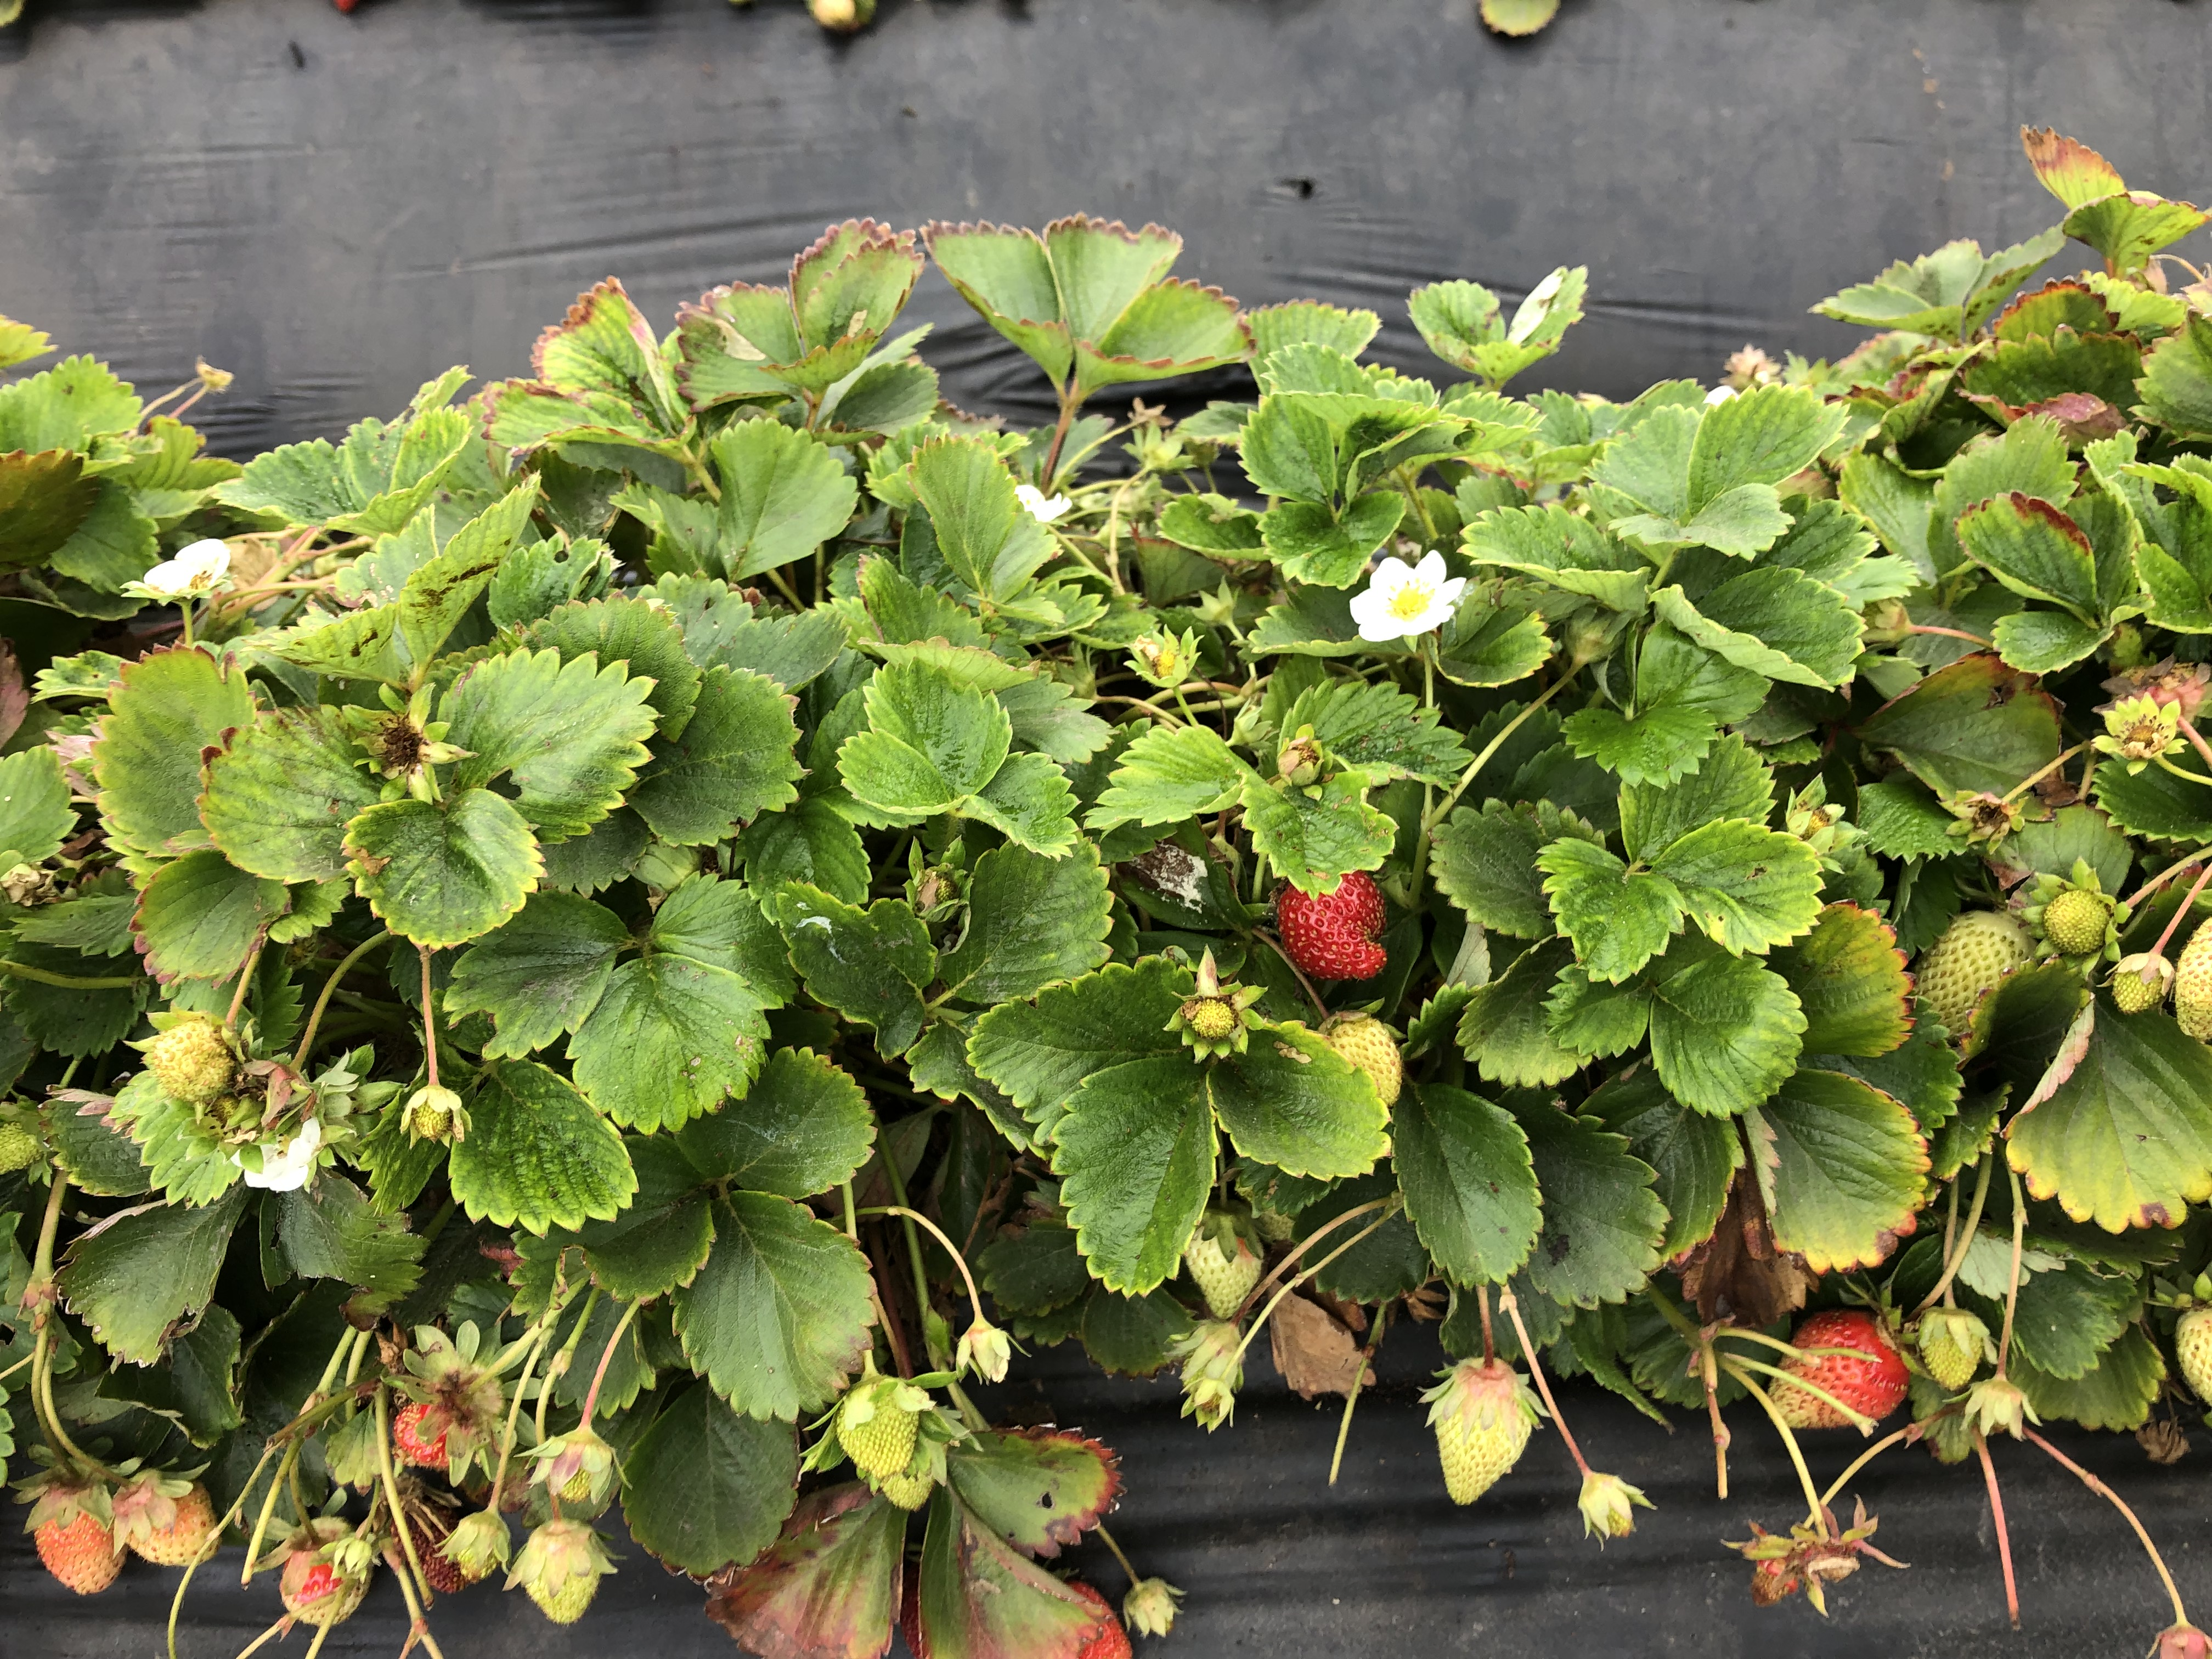ripe_strawberry: (1275, 866, 1392, 986), (385, 1492, 460, 1595), (397, 1389, 469, 1471)
unripe_strawberry: (1423, 1347, 1540, 1518), (1911, 897, 2036, 1044), (1768, 1309, 1909, 1431), (24, 1474, 117, 1596), (833, 1370, 928, 1485), (111, 1476, 223, 1570), (516, 1520, 611, 1628), (277, 1516, 364, 1629), (1183, 1211, 1266, 1317), (146, 1018, 233, 1112), (1320, 1011, 1407, 1105), (2034, 877, 2123, 960), (1918, 1302, 1991, 1391), (543, 1429, 617, 1500), (2174, 913, 2212, 1047), (873, 1441, 939, 1514), (1580, 1469, 1646, 1542), (2174, 1291, 2212, 1417), (1179, 992, 1254, 1044), (456, 1507, 505, 1588)
